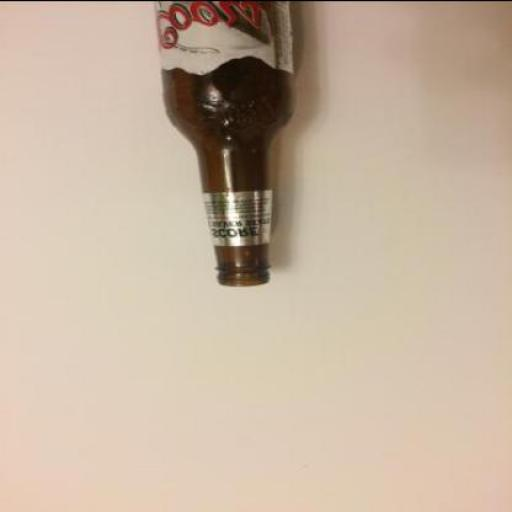glass: (158, 1, 299, 287)
